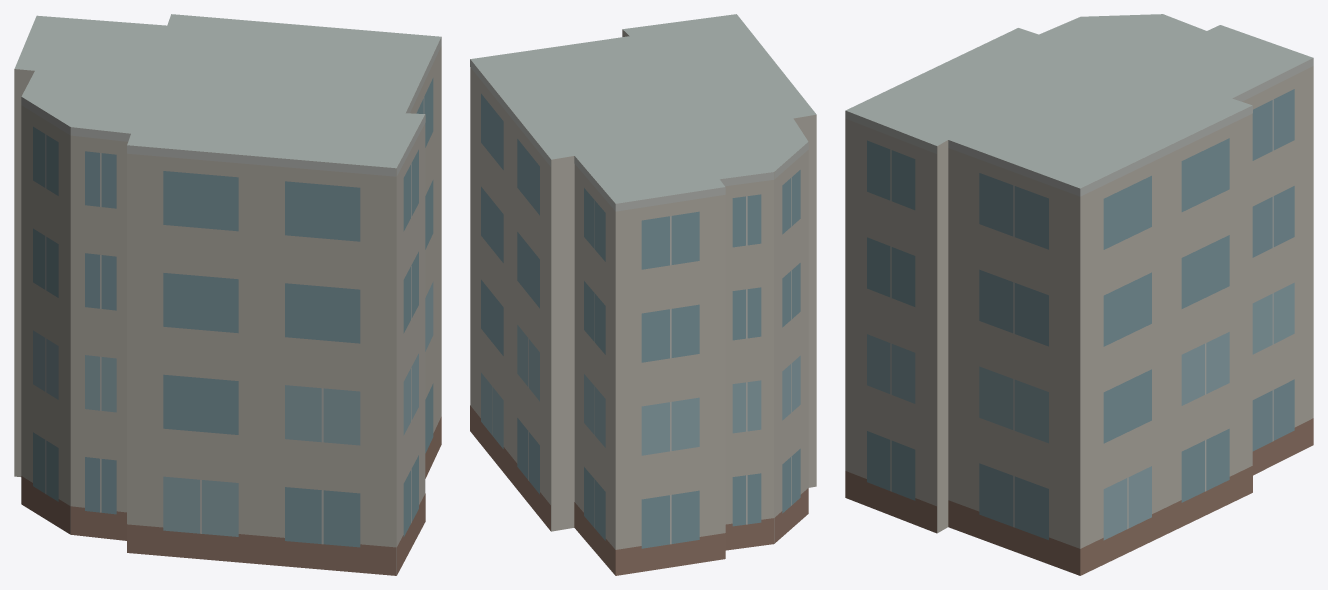
The model's file is survey-upis-32594558.glb.
3 renders of one model, left to right at view 1: azimuth 30°, elevation 25°; view 2: azimuth 150°, elevation 25°; view 3: azimuth 270°, elevation 25°, orthographic. The views are drawn at different scales.
Visible parts, largest first — view 1: survey-upis-32594558.tmp; view 2: survey-upis-32594558.tmp; view 3: survey-upis-32594558.tmp.
Part boxes in pixels (<box>): survey-upis-32594558.tmp: <box>14,14,441,575</box>; survey-upis-32594558.tmp: <box>470,14,816,575</box>; survey-upis-32594558.tmp: <box>845,14,1313,575</box>.
Size of the model in its own units: 11.32 by 11.7 by 12.83.
